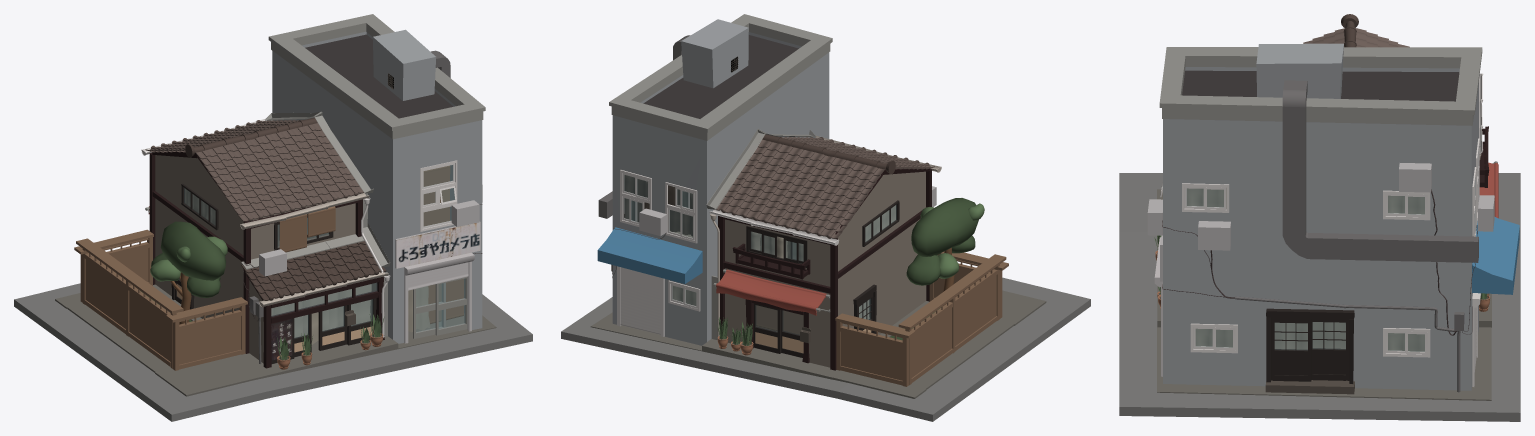
The model's file is Draft_diplom.fbx.
The picture shows the model from 3 angles, left to right: view 1: azimuth 30°, elevation 25°; view 2: azimuth 150°, elevation 25°; view 3: azimuth 270°, elevation 25°; orthographic projection. The views are drawn at different scales.
Visible parts, largest first — view 1: polySurface761, pCube74, polySurface231, polySurface113, polySurface774, polySurface306, polySurface517, pCube103, polySurface90, polySurface760, polySurface765, polySurface764 (+33 smaller); view 2: polySurface761, pCube74, polySurface113, polySurface231, polySurface774, polySurface306, pCube104, polySurface760, polySurface723, polySurface517, polySurface765, polySurface685 (+26 smaller); view 3: polySurface762, pCube74, polySurface774, polySurface866, polySurface760, polySurface765, pCube75, polySurface723, polySurface871, polySurface770, polySurface772, polySurface817 (+23 smaller).
Part boxes in pixels (<box>): polySurface761: <box>272,51,482,343</box>; pCube74: <box>14,283,532,421</box>; polySurface231: <box>145,120,363,221</box>; polySurface113: <box>155,128,376,363</box>; polySurface774: <box>268,14,485,139</box>; polySurface306: <box>76,238,183,368</box>; polySurface517: <box>149,151,384,368</box>; pCube103: <box>166,297,247,370</box>; polySurface90: <box>241,241,386,300</box>; polySurface760: <box>302,31,455,118</box>; polySurface765: <box>373,29,436,100</box>; polySurface764: <box>395,221,480,268</box>; polySurface761: <box>612,52,829,345</box>; pCube74: <box>561,277,1090,421</box>; polySurface113: <box>725,145,926,367</box>; polySurface231: <box>716,136,934,238</box>; polySurface774: <box>609,14,832,140</box>; polySurface306: <box>898,254,1006,385</box>; pCube104: <box>835,313,915,386</box>; polySurface760: <box>640,32,801,118</box>; polySurface723: <box>597,227,702,283</box>; polySurface517: <box>718,168,931,370</box>; polySurface765: <box>681,19,748,88</box>; polySurface685: <box>911,198,978,256</box>; polySurface762: <box>1163,119,1471,390</box>; pCube74: <box>1119,173,1520,421</box>; polySurface774: <box>1159,47,1482,125</box>; polySurface866: <box>1282,80,1478,262</box>; polySurface760: <box>1182,67,1459,101</box>; polySurface765: <box>1256,43,1343,98</box>; pCube75: <box>1157,327,1491,400</box>; polySurface723: <box>1472,217,1519,294</box>; polySurface871: <box>1271,317,1311,381</box>; polySurface770: <box>1274,322,1345,349</box>; polySurface772: <box>1265,380,1354,394</box>; polySurface817: <box>1198,221,1230,250</box>.
Bounding box in the file's own units: 12.17 × 8.08 × 8.96.
30 materials, 2 textured.
